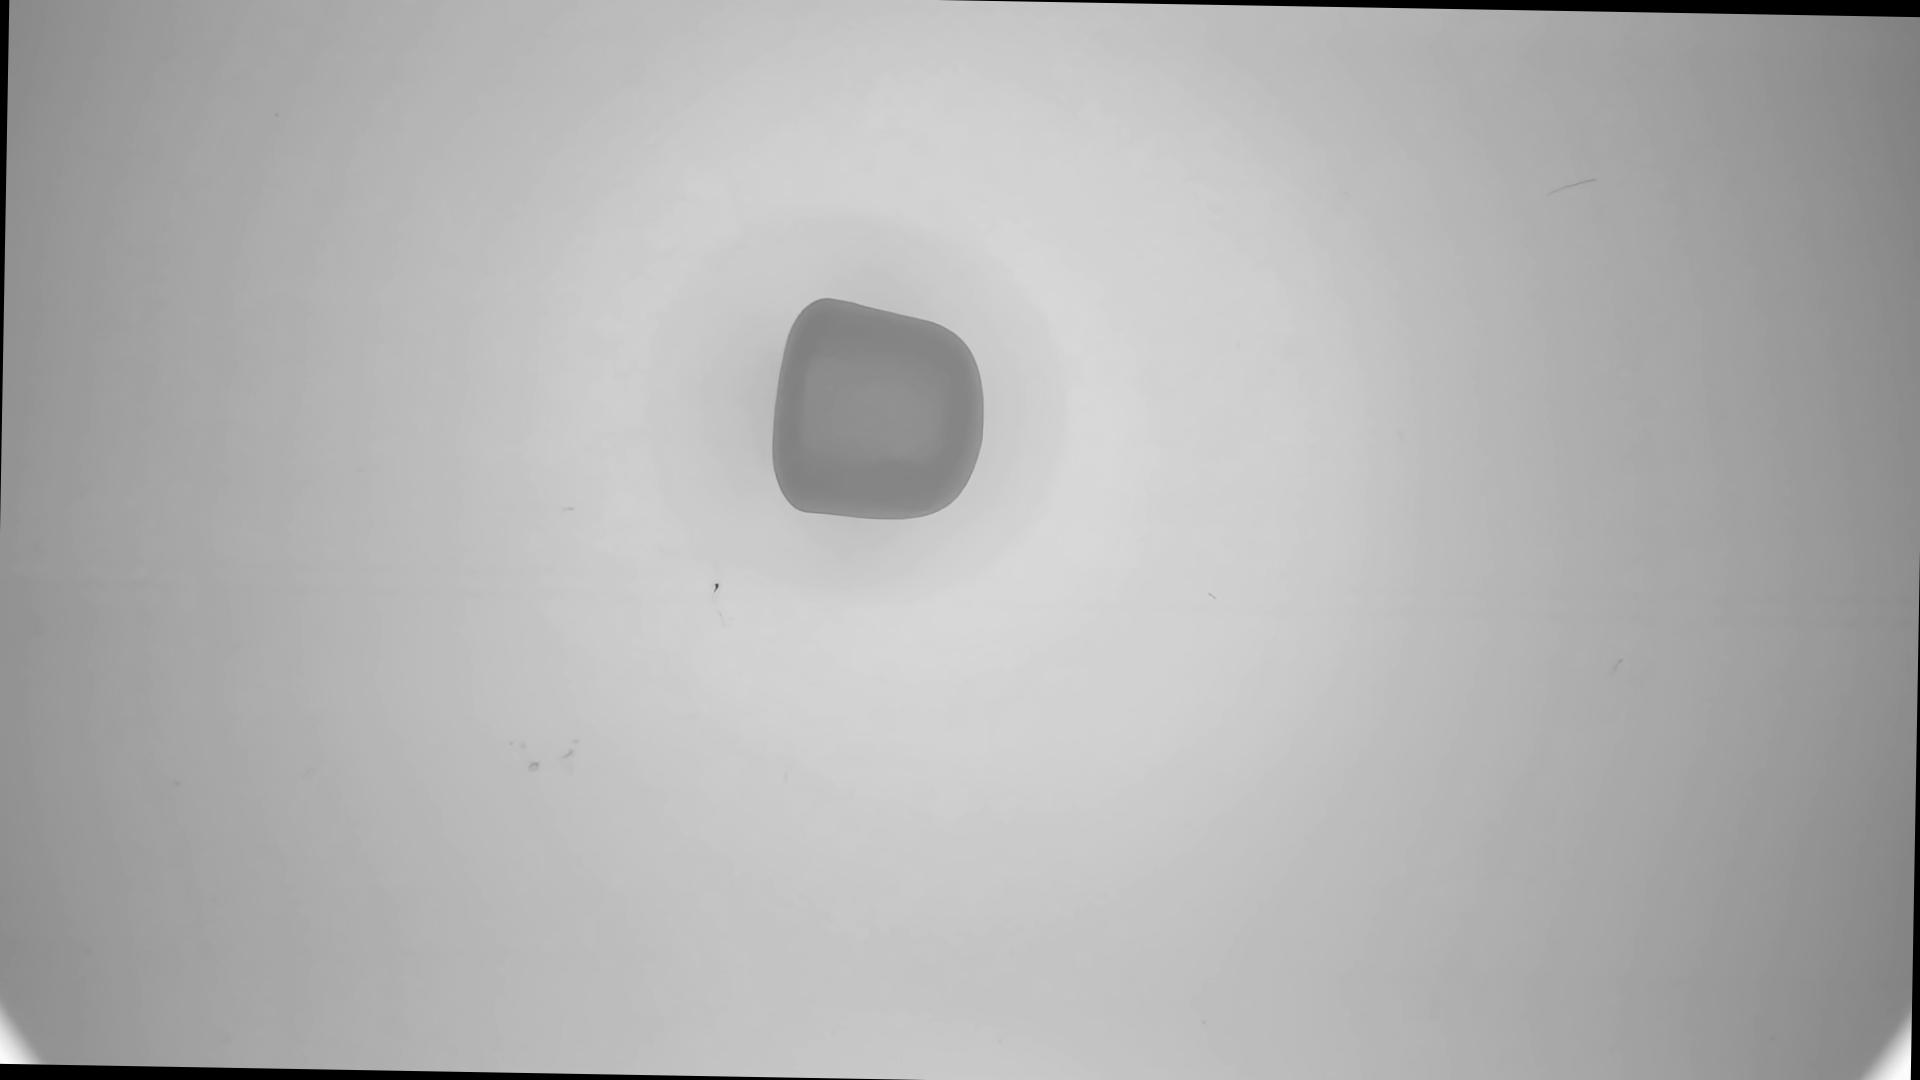normal: (773, 293, 989, 522)
